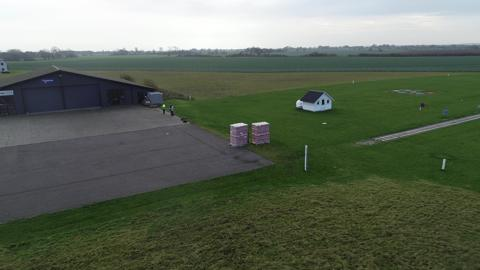RockwoolPallet: (252, 121, 272, 145)
